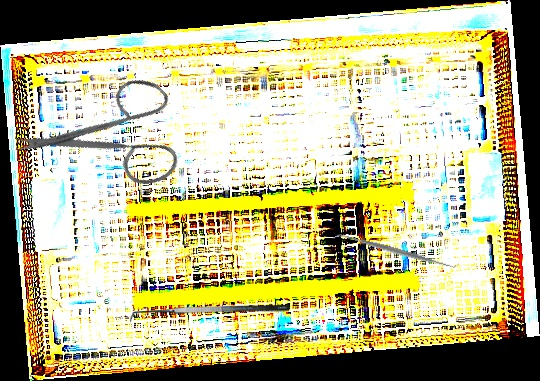Iris Scissors: (7, 40, 210, 242)
Spatula Surgical: (331, 226, 460, 276), (130, 304, 289, 325)
